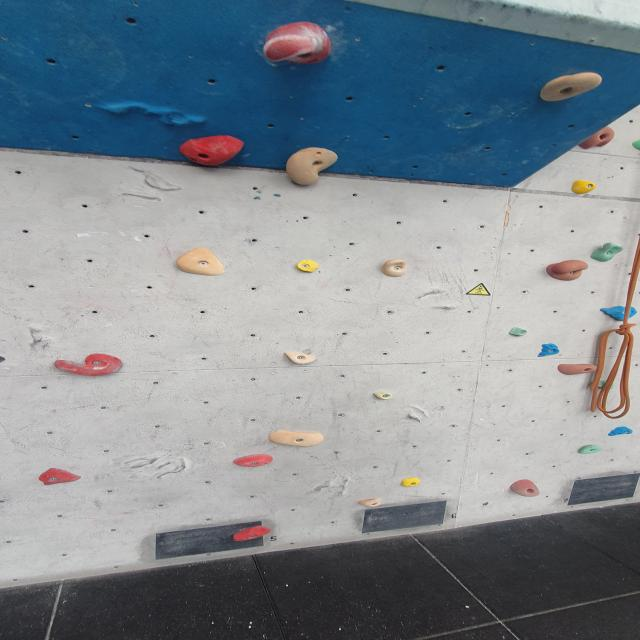Crimp: (54, 353, 128, 376), (269, 431, 326, 449), (37, 468, 85, 486), (231, 524, 273, 543), (232, 454, 276, 469), (554, 361, 597, 376), (282, 351, 319, 365), (569, 179, 600, 195), (292, 260, 322, 275), (538, 342, 560, 359), (354, 497, 382, 510), (576, 444, 604, 457), (606, 426, 636, 437), (371, 390, 399, 400), (397, 478, 421, 489)
Jug: (259, 22, 335, 64), (285, 148, 341, 189), (177, 134, 246, 167), (535, 71, 604, 102), (174, 245, 225, 277), (546, 259, 586, 283), (580, 126, 617, 149), (590, 242, 628, 263), (508, 480, 543, 498), (377, 258, 410, 277)
Pinch: (509, 326, 527, 336)
